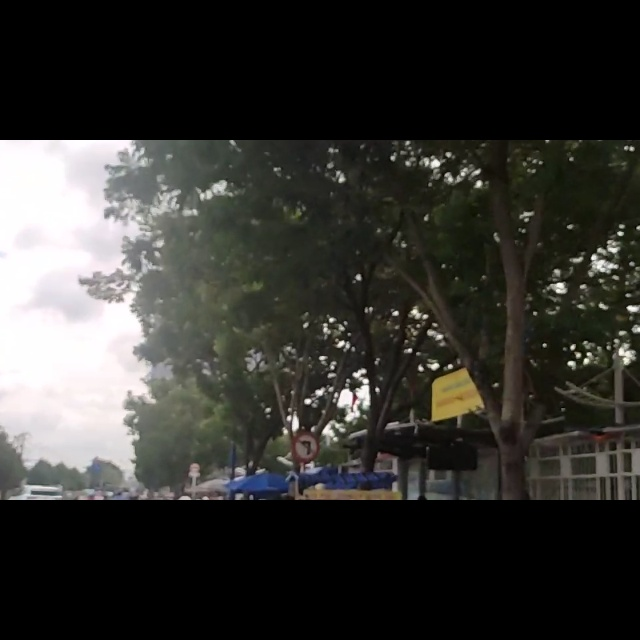bien_cam: (291, 516, 321, 571)
